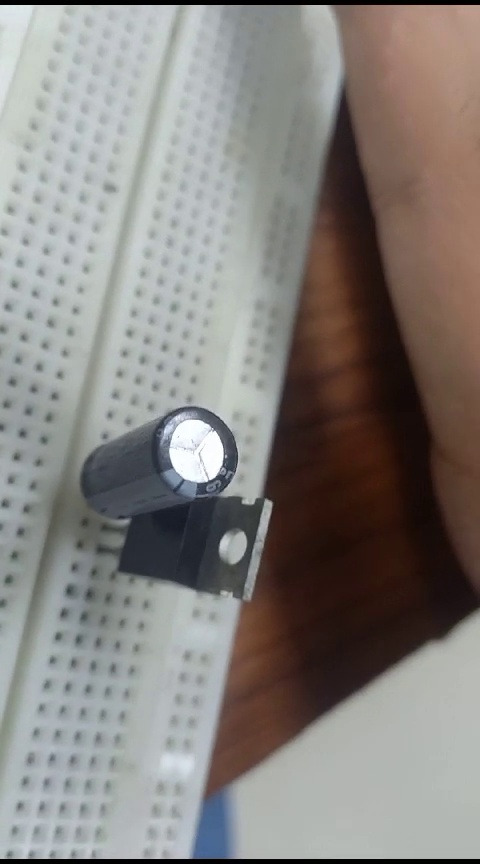capacitor: (79, 405, 244, 531)
voltage regulator: (135, 491, 274, 601)
